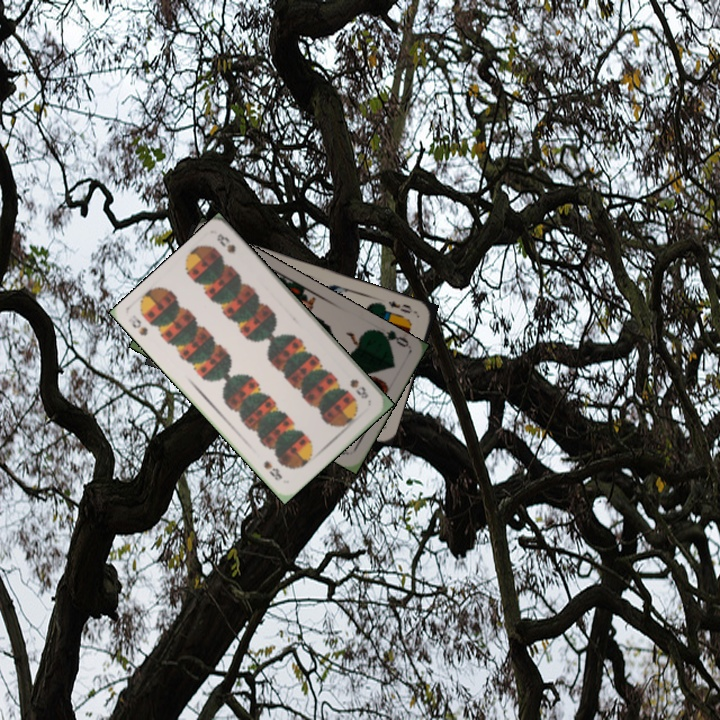EO: (384, 296, 419, 316)
GO: (372, 325, 411, 350)
S8: (124, 310, 151, 339), (346, 375, 371, 401)
